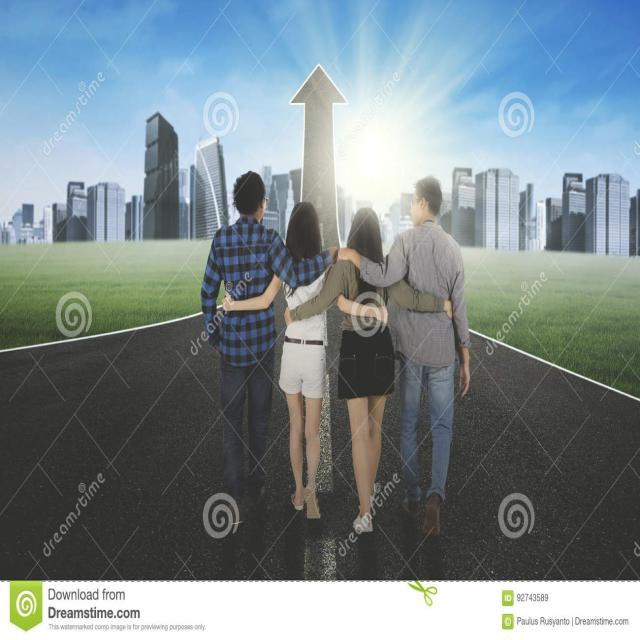body: (220, 197, 392, 522), (284, 206, 454, 534), (336, 171, 476, 541), (199, 168, 342, 519)
